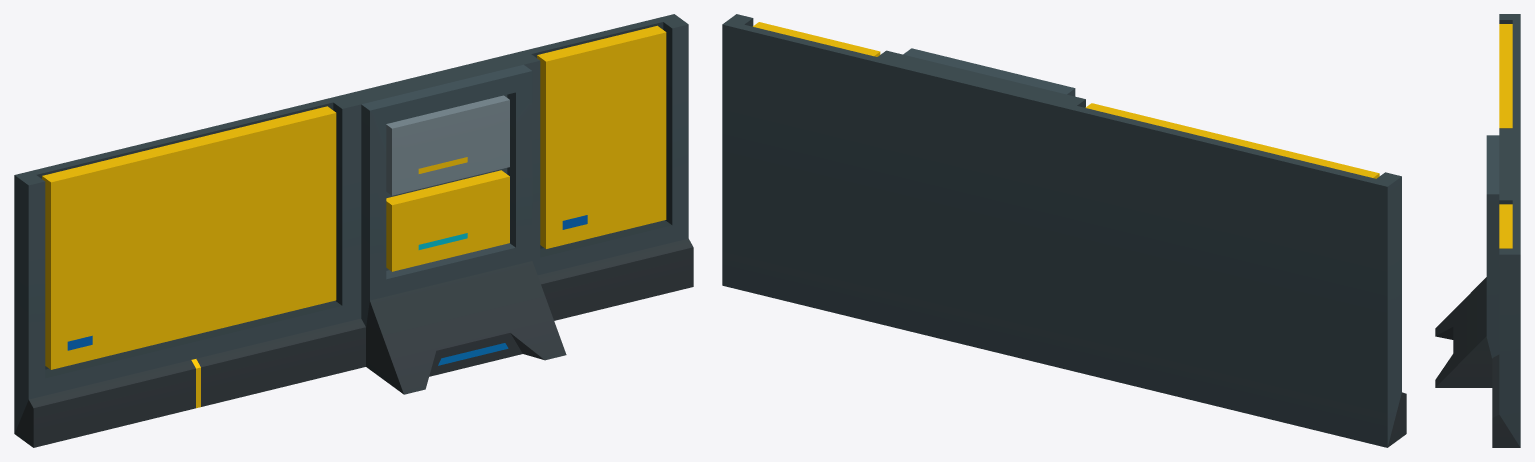
The model's file is Wall_type_C_032.fbx.
The picture shows the model from 3 angles, left to right: view 1: azimuth 30°, elevation 25°; view 2: azimuth 150°, elevation 25°; view 3: azimuth 270°, elevation 25°; orthographic projection. The views are drawn at different scales.
Parts seen in each view (by area): view 1: Wall_type_C_032; view 2: Wall_type_C_032; view 3: Wall_type_C_032.
Part boxes in pixels (<box>): Wall_type_C_032: <box>14,14,693,447</box>; Wall_type_C_032: <box>722,14,1406,447</box>; Wall_type_C_032: <box>1435,14,1520,447</box>.
Bounding box in the file's own units: 400 × 60 × 150.
